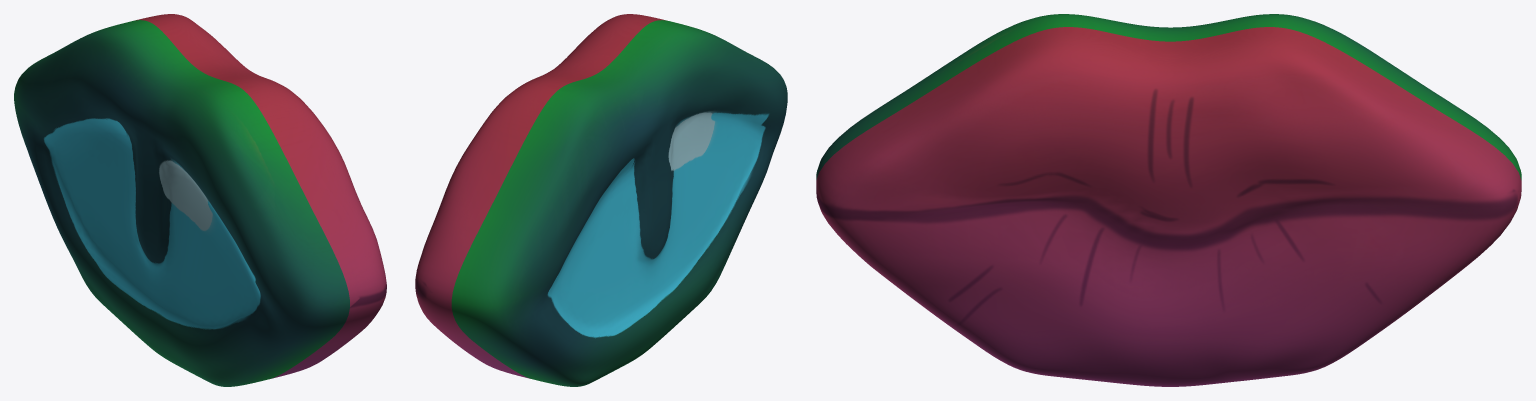
File: lips_eye_done1.fbx
3 renders of one model, left to right at view 1: azimuth 30°, elevation 25°; view 2: azimuth 150°, elevation 25°; view 3: azimuth 270°, elevation 25°, orthographic. The views are drawn at different scales.
Parts seen in each view (by area): view 1: pCube3; view 2: pCube3; view 3: pCube3.
Boxes of the visible parts, x1,y1,x2,y2 form: pCube3: (14, 14, 386, 386); pCube3: (415, 14, 787, 386); pCube3: (816, 14, 1521, 386).
Size of the model in its own units: 2.44 by 5.51 by 10.31.
